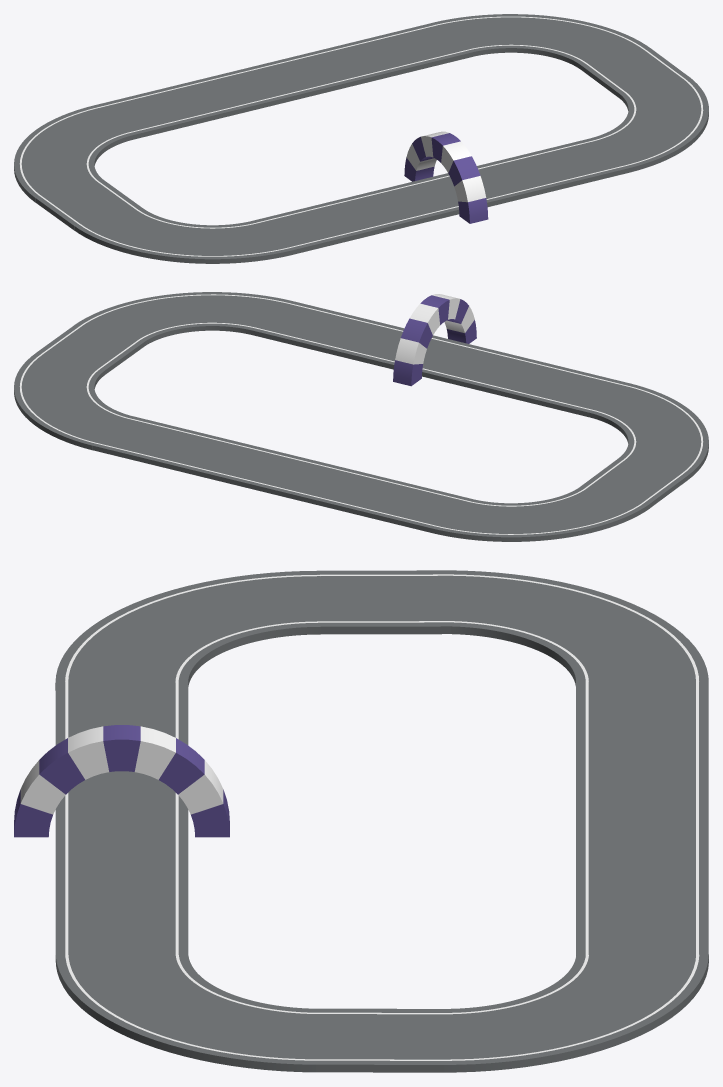
Rendered from track.glb.
The picture shows the model from 3 angles, top to bottom: view 1: azimuth 30°, elevation 25°; view 2: azimuth 150°, elevation 25°; view 3: azimuth 270°, elevation 25°; orthographic projection. The views are drawn at different scales.
Parts seen in each view (by area): view 1: big_curve, big_curve.002, big_curve.003, big_curve.001, arc, straight_street.008, straight_street.010, straight_street.007, straight_street.001, straight_street.002, straight_street.009, straight_street.005 (+5 smaller); view 2: big_curve.001, big_curve.002, big_curve.003, big_curve, arc, straight_street.007, straight_street.009, straight_street.001, straight_street.008, straight_street.002, straight_street.011, straight_street.010 (+5 smaller); view 3: big_curve.002, big_curve.003, big_curve, big_curve.001, arc, straight_street.003, straight_street.006, straight_street.004, straight_street.010, straight_street.008, straight_street.009, straight_street.005 (+5 smaller).
Boxes of the visible parts, x1,y1,x2,y2 form: big_curve: (74,209,293,263); big_curve.002: (433,14,650,69); big_curve.003: (587,77,708,171); big_curve.001: (14,105,133,201); arc: (404,131,488,223); straight_street.008: (94,89,203,139); straight_street.010: (298,39,407,89); straight_street.007: (232,55,340,105); straight_street.001: (253,204,361,254); straight_street.002: (320,187,429,237); straight_street.009: (162,72,271,122); straight_street.005: (524,138,631,188); big_curve.001: (430,487,650,541); big_curve.002: (14,353,133,450); big_curve.003: (75,292,289,345); big_curve: (588,383,708,478); arc: (393,294,476,386); straight_street.007: (224,448,333,499); straight_street.009: (294,465,403,515); straight_street.001: (520,366,629,417); straight_street.008: (362,482,471,532); straight_street.002: (452,350,560,400); straight_street.011: (93,416,200,466); straight_street.010: (158,433,267,482); big_curve.002: (440,953,708,1072); big_curve.003: (56,955,318,1072); big_curve: (55,570,320,690); big_curve.001: (444,570,708,685); arc: (14,725,229,837); straight_street.003: (317,570,450,634); straight_street.006: (311,1008,444,1072); straight_street.004: (55,845,188,901); straight_street.010: (576,845,708,901); straight_street.008: (576,681,708,737); straight_street.009: (576,737,708,792); straight_street.005: (55,899,188,962).
Size of the model in its own units: 113 by 10.4 by 67.02.
Materials: 1 (1 with a texture image).
